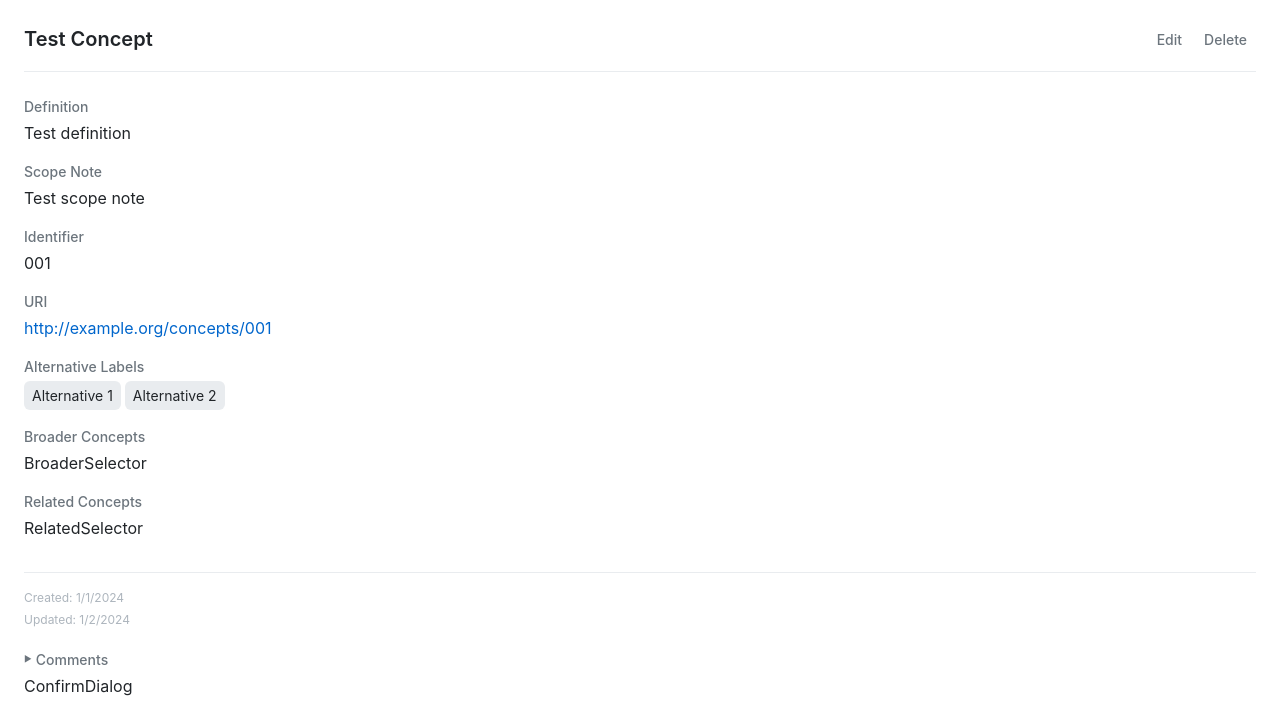
Test: ConceptDetail › edit mode toggle › should toggle to edit mode when Edit button clicked
Click the button "Edit" at (1169, 40), box [1148,24,1191,55]
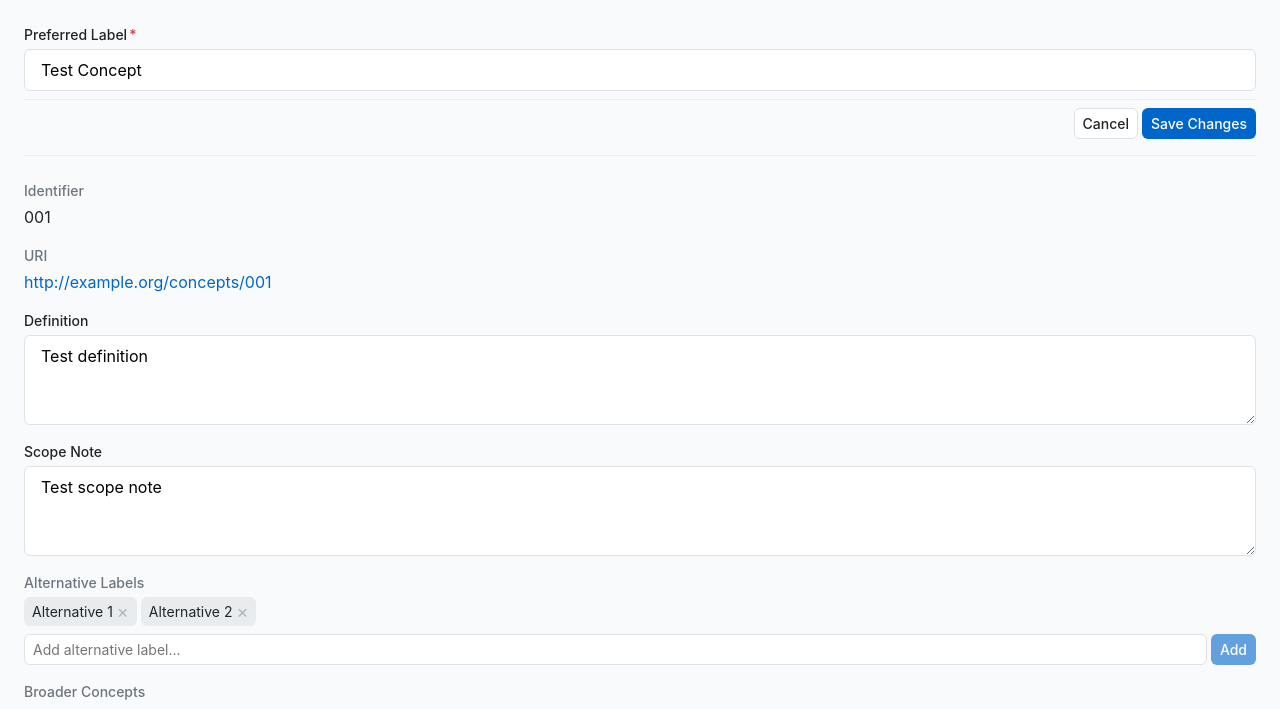
expect the button "Cancel" is shown: met, box [1074,108,1138,139]
expect the button "Save Changes" is shown: met, box [1142,108,1256,139]
expect the button "Edit" is gone: met
